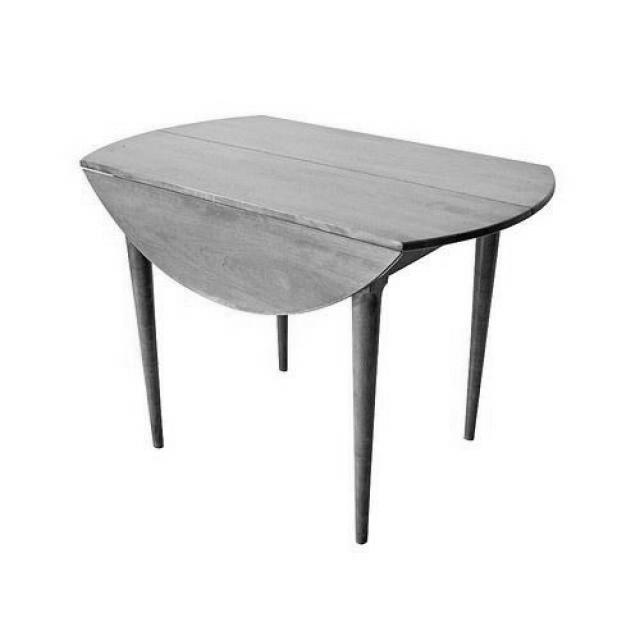table: (82, 116, 556, 544)
